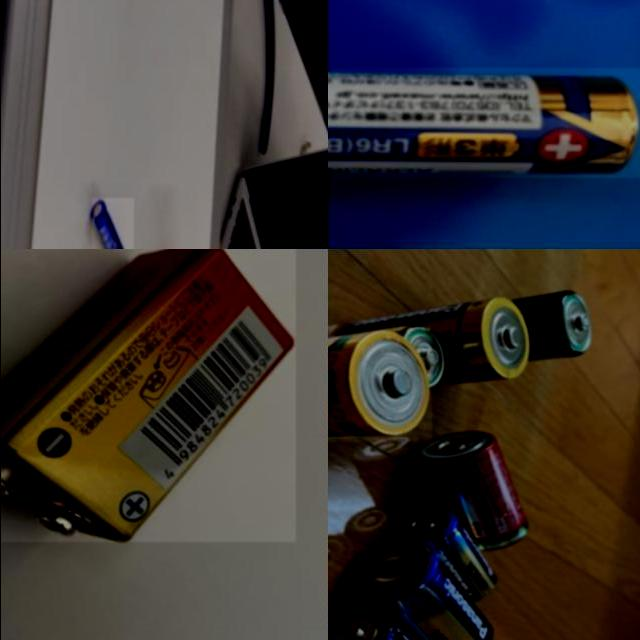9V: (0, 249, 295, 542)
